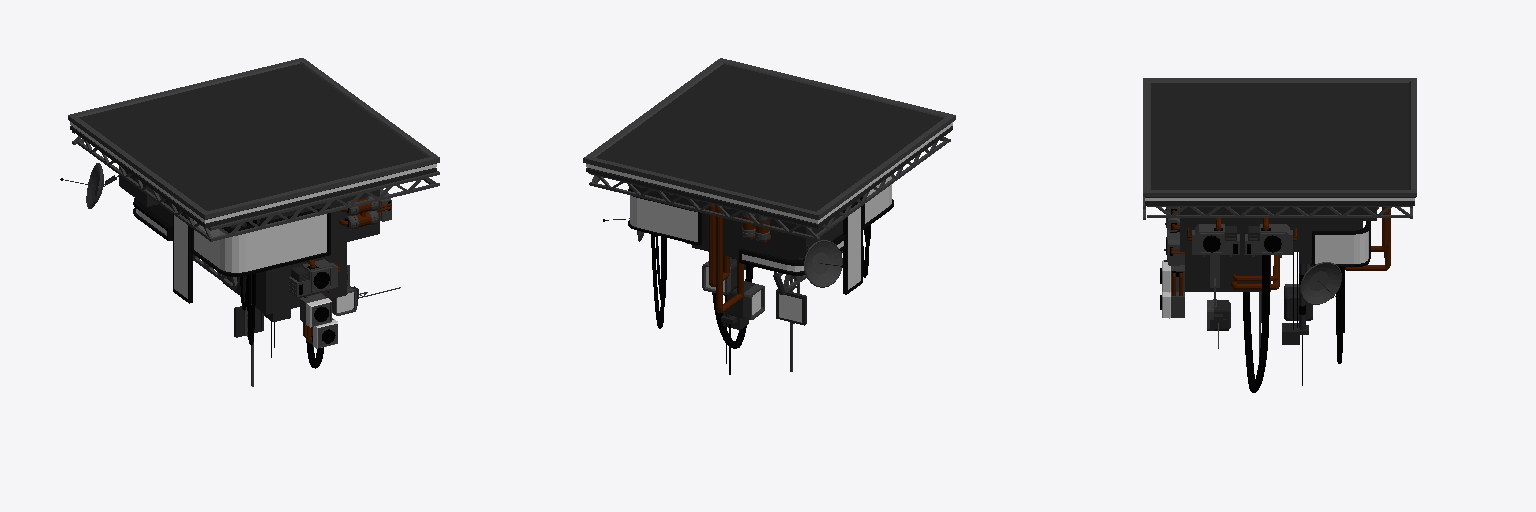
File: Platform_4x4_Cube_002.obj
3 renders of one model, left to right at view 1: azimuth 30°, elevation 25°; view 2: azimuth 150°, elevation 25°; view 3: azimuth 270°, elevation 25°, orthographic.
Parts seen in each view (by area): view 1: Platform_4x4_Cube.002; view 2: Platform_4x4_Cube.002; view 3: Platform_4x4_Cube.002.
Boxes of the visible parts, x1=… form: Platform_4x4_Cube.002: x1=60, y1=58, x2=439, y2=386; Platform_4x4_Cube.002: x1=583, y1=58, x2=955, y2=374; Platform_4x4_Cube.002: x1=1143, y1=78, x2=1416, y2=392.
Size of the model in its own units: 4.47 by 3.76 by 3.9.